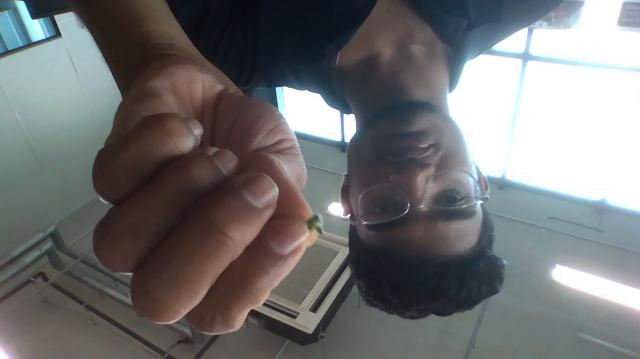Fruit Bud: (307, 214, 324, 235)
